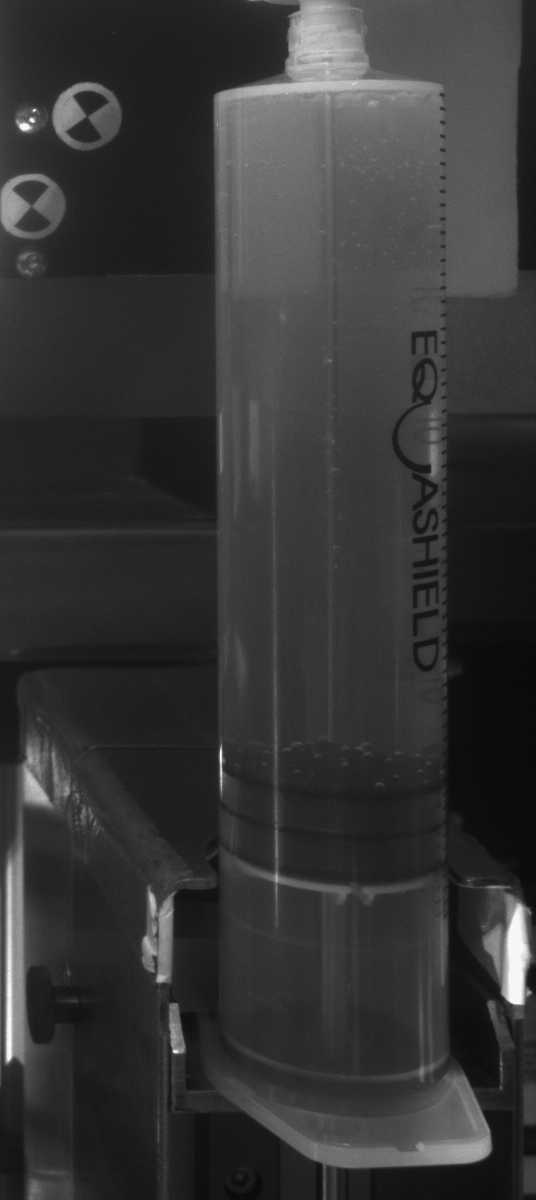piston: (216, 768, 451, 907)
